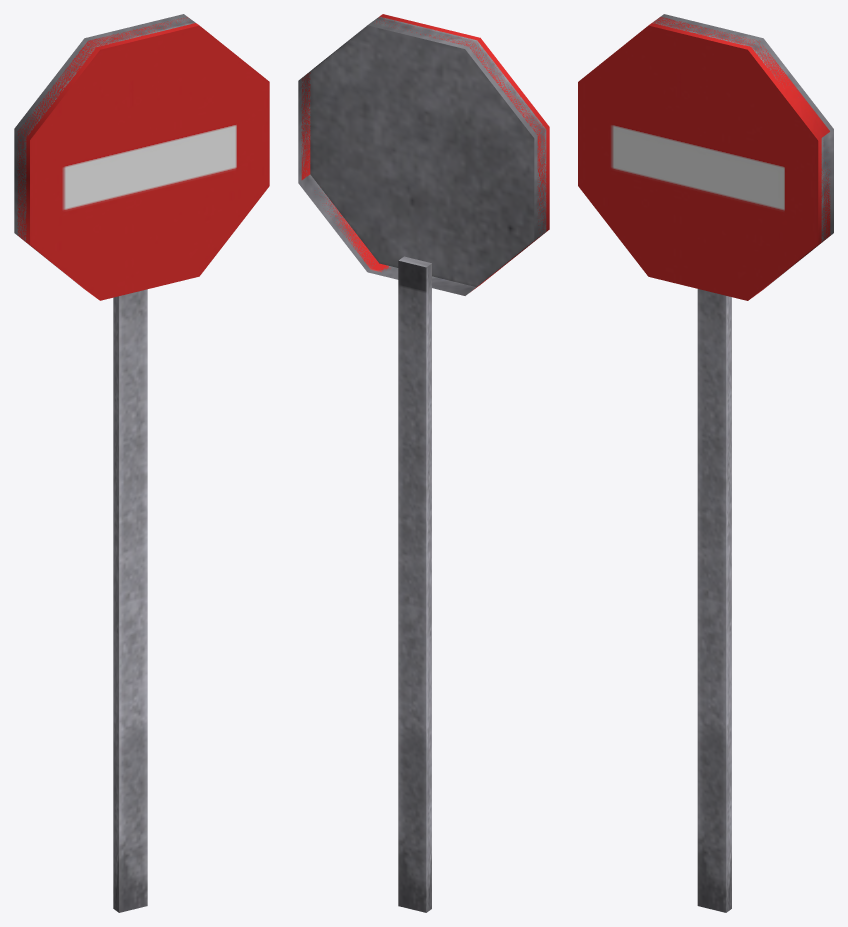
File: signal1.FBX
3 renders of one model, left to right at view 1: azimuth 30°, elevation 25°; view 2: azimuth 150°, elevation 25°; view 3: azimuth 330°, elevation 25°, orthographic.
Visible parts, largest first — view 1: prop_signal1_LOD0; view 2: prop_signal1_LOD0; view 3: prop_signal1_LOD0.
Boxes of the visible parts, <box> form: prop_signal1_LOD0: <box>14,14,269,912</box>; prop_signal1_LOD0: <box>298,14,549,912</box>; prop_signal1_LOD0: <box>578,14,833,912</box>.
Size of what is drawn, in the model's own units: 0.7653 by 2.69 by 0.1157.
